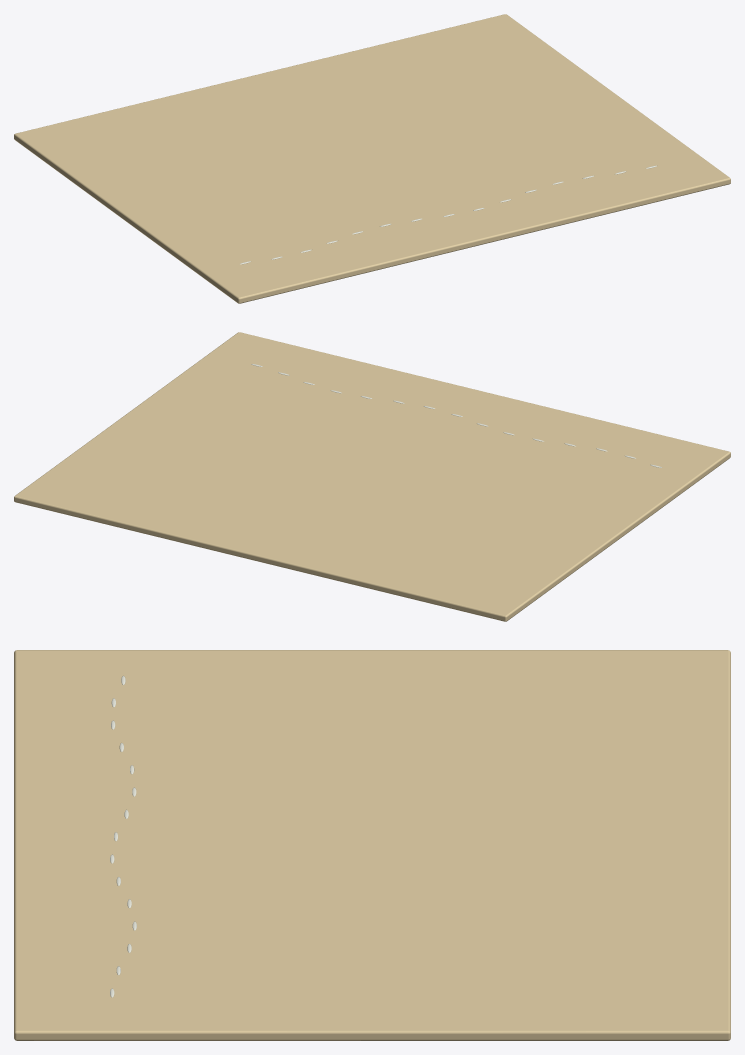
File: castaway-island-escape-beach-crash-site-base-1262660c__28076.glb
3 views of the same model, one above another, from view 1: azimuth 30°, elevation 25°; view 2: azimuth 150°, elevation 25°; view 3: azimuth 270°, elevation 25° (orthographic). The views are drawn at different scales.
Parts seen in each view (by area): view 1: beach-crash-site-base-sand; view 2: beach-crash-site-base-sand; view 3: beach-crash-site-base-sand.
Boxes of the visible parts, bbox=[...] form: beach-crash-site-base-sand: bbox=[14, 14, 730, 303]; beach-crash-site-base-sand: bbox=[14, 332, 730, 621]; beach-crash-site-base-sand: bbox=[14, 650, 730, 1040].
Bounding box in the file's own units: 24 × 0.3336 × 19.
